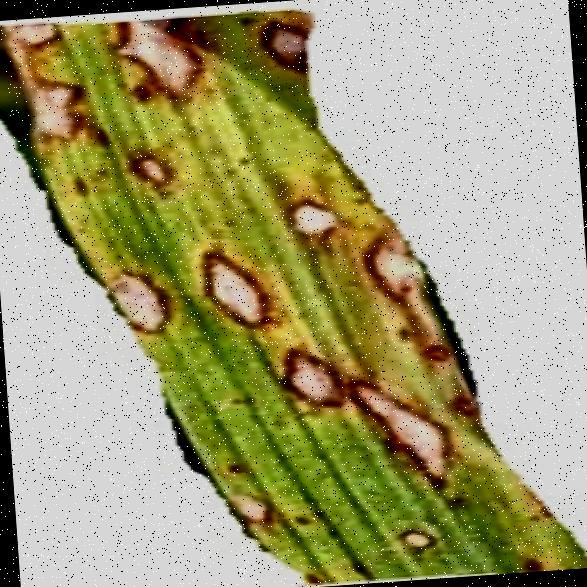Leaf_smut: (0, 0, 583, 587)
